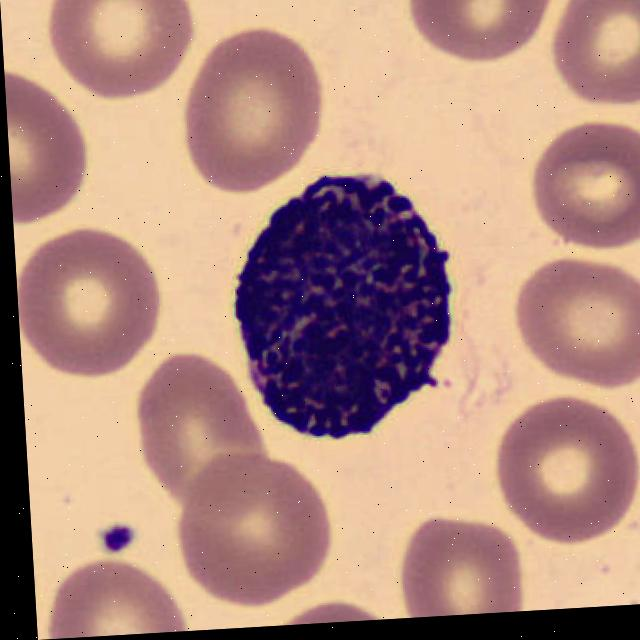basophil: (224, 165, 473, 443)
rbc: (179, 438, 346, 602), (191, 19, 336, 197), (14, 232, 175, 386), (488, 377, 635, 545), (33, 0, 221, 117), (3, 48, 114, 225), (131, 345, 265, 488), (392, 487, 535, 619), (514, 250, 640, 390), (524, 115, 640, 253), (49, 548, 192, 639), (408, 0, 564, 75), (551, 0, 640, 111), (225, 597, 394, 629)
